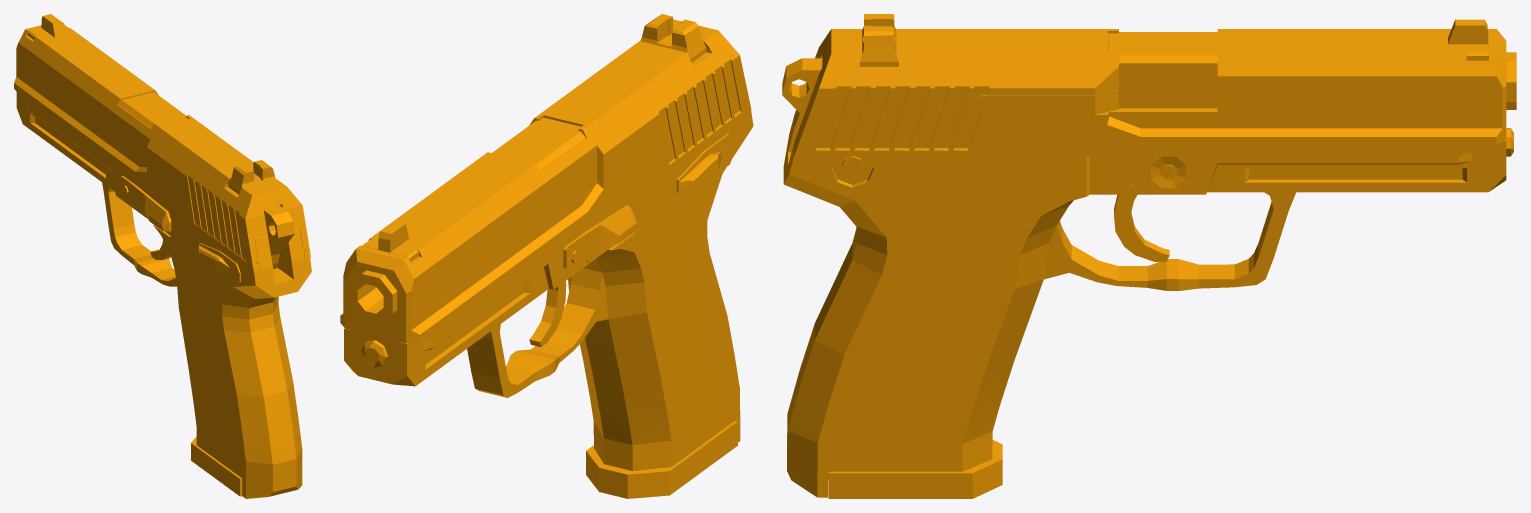
The model's file is simplegun.glb.
3 views of the same model, side by side, from view 1: azimuth 30°, elevation 25°; view 2: azimuth 150°, elevation 25°; view 3: azimuth 270°, elevation 25° (orthographic). The views are drawn at different scales.
Parts seen in each view (by area): view 1: Body, Slide, Hammer, Slide Stop, Magazine, Safety; view 2: Body, Slide, Magazine, Slide Stop, Safety, Trigger; view 3: Body, Slide, Magazine, Hammer, Trigger.
Part boxes in pixels (x1=…): Body: x1=16, y1=92, x2=311, y2=498; Slide: x1=14, y1=14, x2=310, y2=270; Hammer: x1=263, y1=205, x2=294, y2=268; Slide Stop: x1=120, y1=176, x2=171, y2=231; Magazine: x1=191, y1=436, x2=242, y2=496; Safety: x1=198, y1=243, x2=240, y2=285; Body: x1=344, y1=110, x2=753, y2=470; Slide: x1=340, y1=14, x2=751, y2=378; Magazine: x1=586, y1=420, x2=737, y2=498; Slide Stop: x1=563, y1=205, x2=638, y2=272; Safety: x1=676, y1=133, x2=734, y2=192; Trigger: x1=529, y1=281, x2=566, y2=347; Body: x1=783, y1=32, x2=1516, y2=497; Slide: x1=794, y1=14, x2=1506, y2=155; Magazine: x1=828, y1=440, x2=1002, y2=498; Hammer: x1=782, y1=58, x2=863, y2=176; Trigger: x1=1114, y1=194, x2=1169, y2=261.
Bounding box in the file's own units: 0.037 × 0.1692 × 0.2476.
